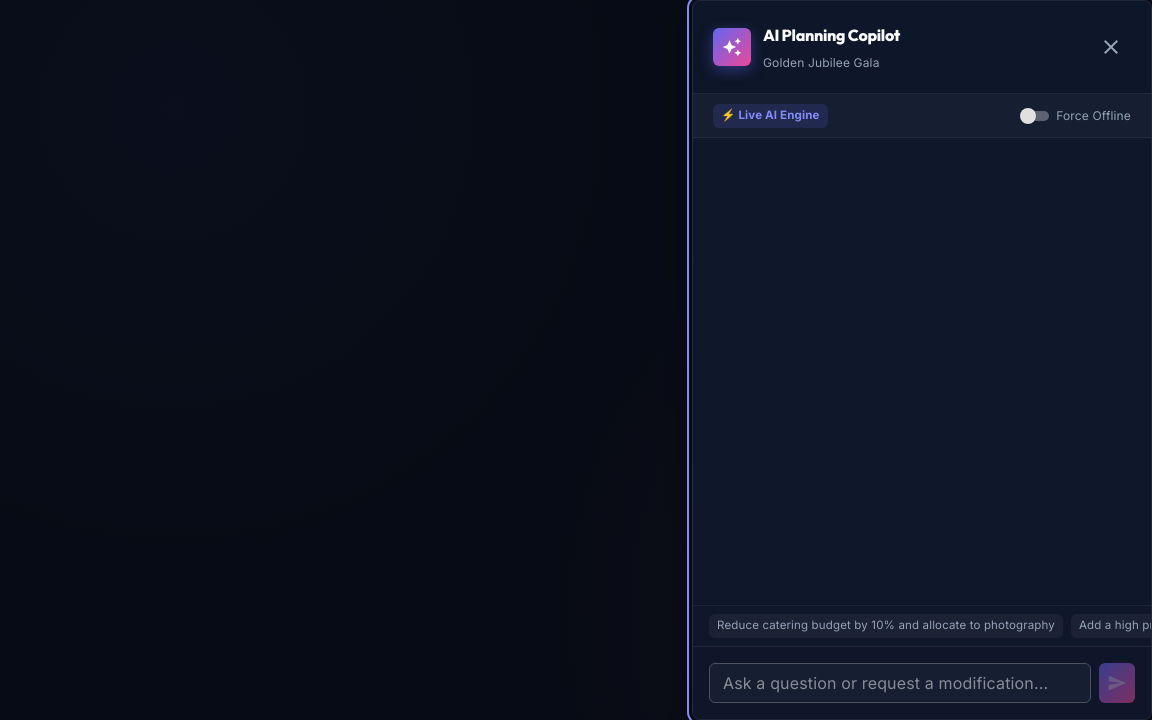
it: AssistantDrawer Component › confirms and applies proposal diff when 'Confirm & Apply' is clicked
# Send message to trigger proposal
Type "Reduce catering by 500 and allocate to photography" into the field with placeholder "Ask a question or request a modification..." at (900, 683), box top-left (709, 663), bottom-right (1091, 703)
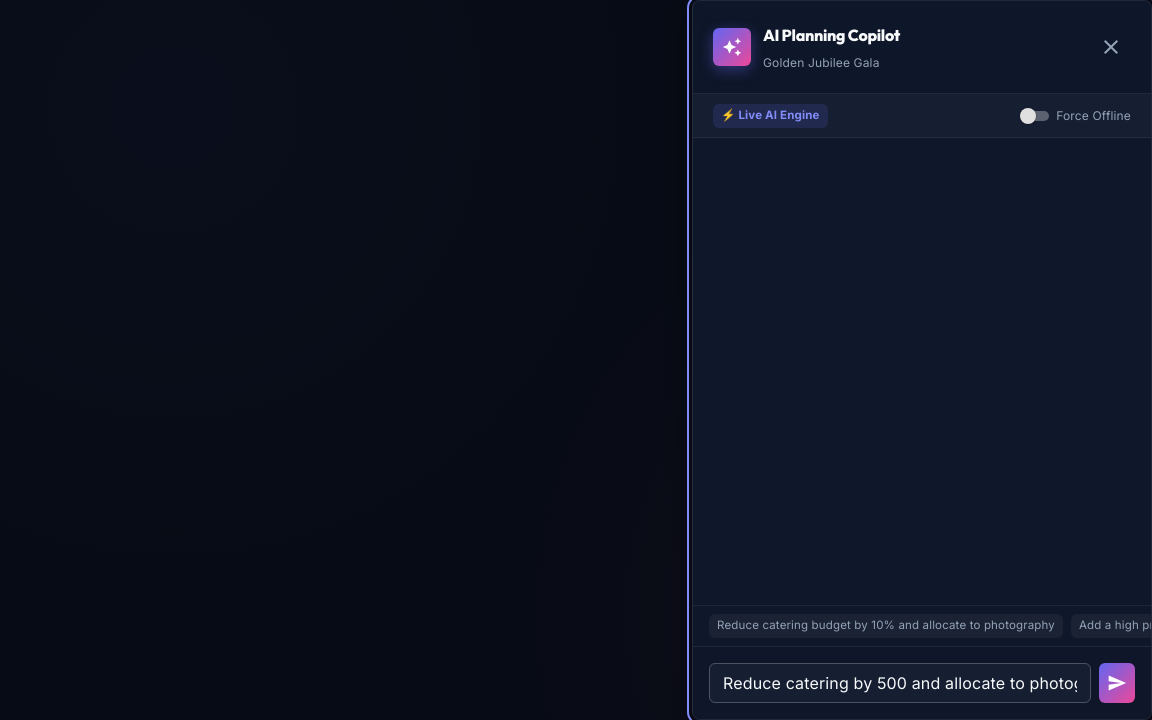
Click the button named "Send message" at (1117, 683), box top-left (1099, 663), bottom-right (1135, 703)
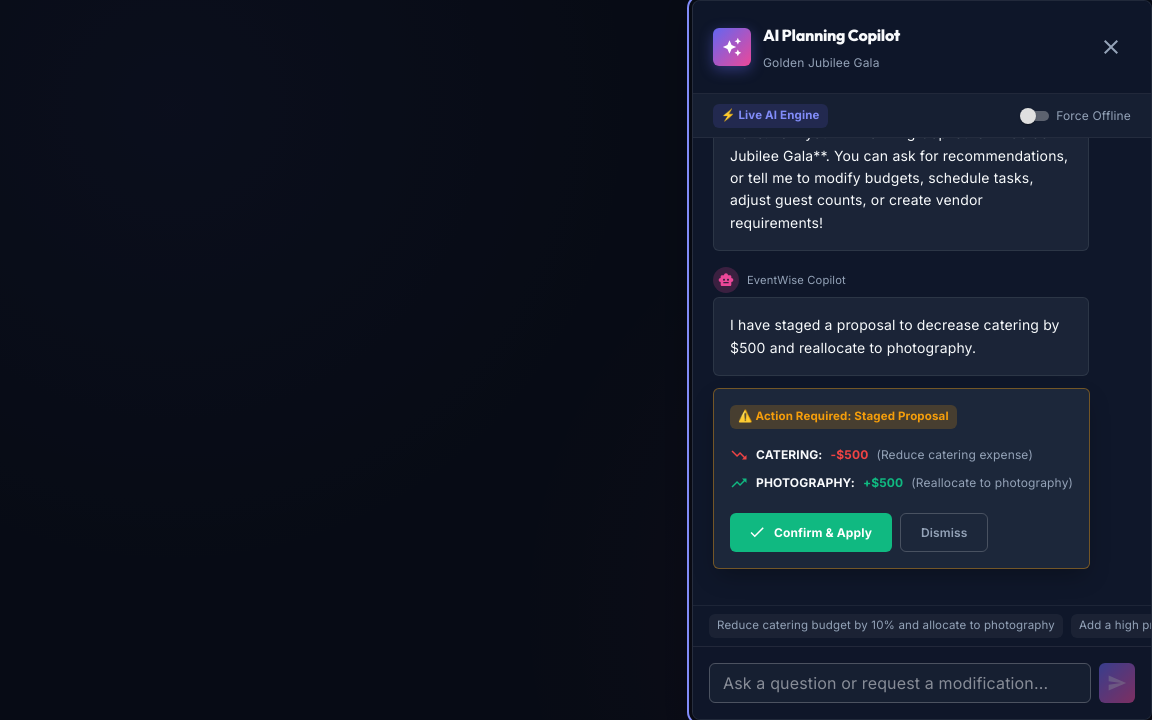
Now the button "Confirm & Apply" is shown
# Click confirm
Click the button "Confirm & Apply" at (811, 532), box top-left (730, 513), bottom-right (892, 552)
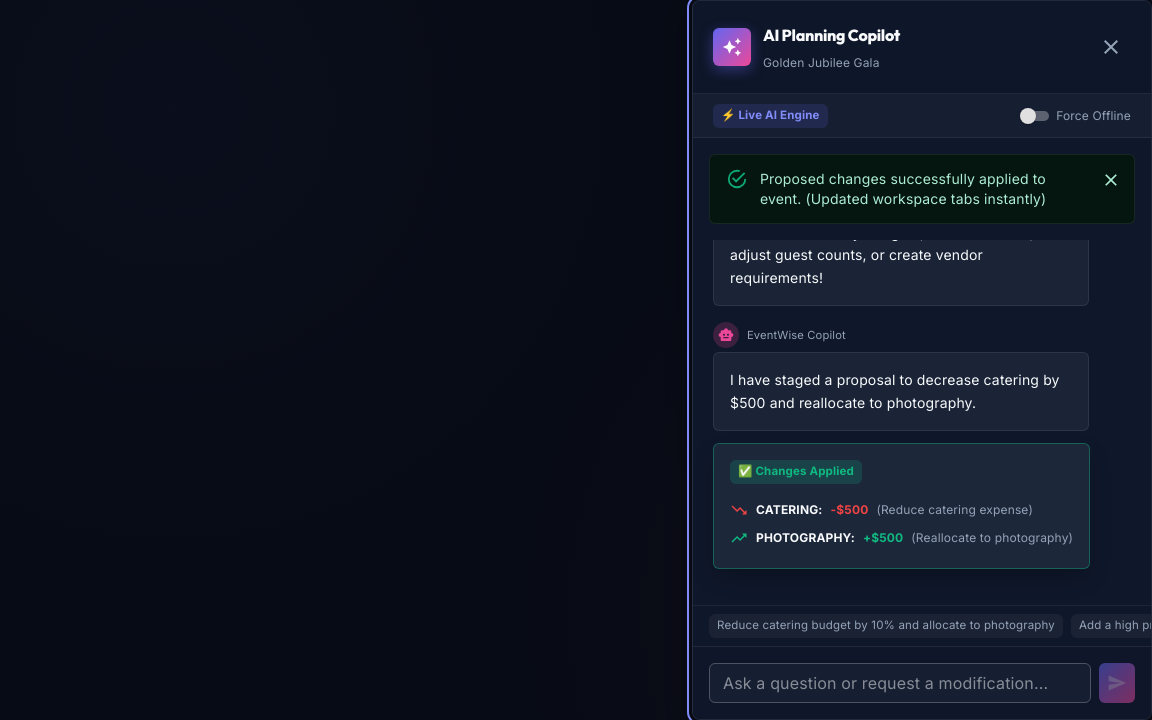
Now the text "✅ Changes Applied" is shown, box top-left (730, 463), bottom-right (862, 481)
